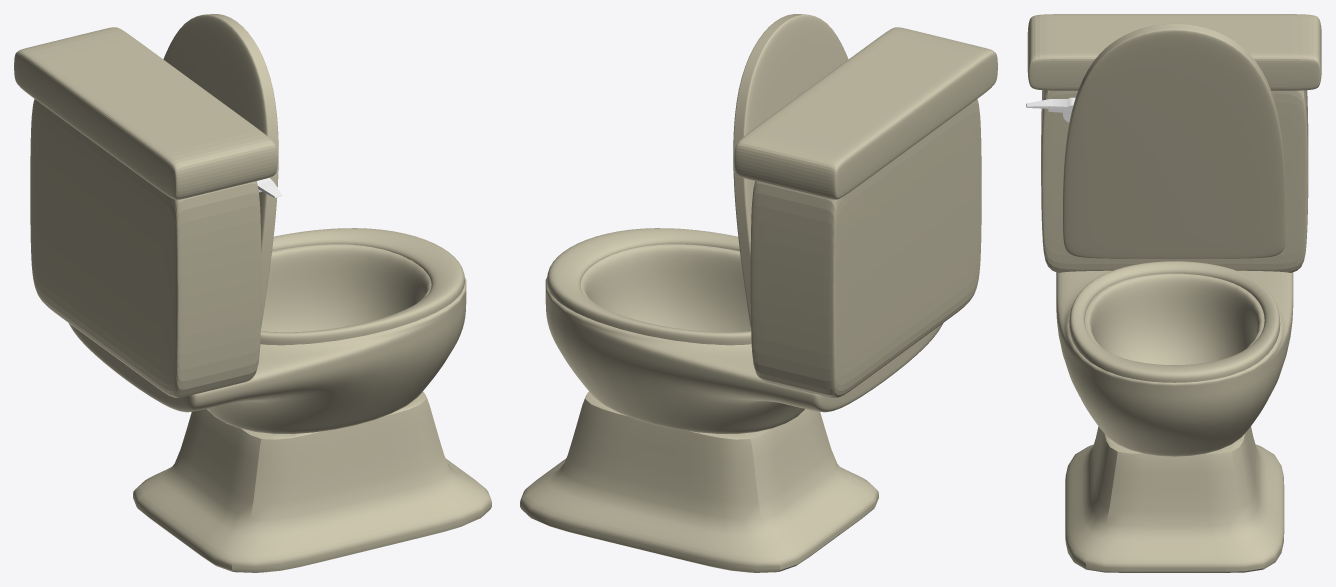
The model's file is Toilet (Open).fbx.
3 views of the same model, side by side, from view 1: azimuth 30°, elevation 25°; view 2: azimuth 150°, elevation 25°; view 3: azimuth 270°, elevation 25° (orthographic). The views are drawn at different scales.
Parts seen in each view (by area): view 1: Cylinder, Plane.002; view 2: Cylinder, Plane.002; view 3: Cylinder, Plane.002.
Boxes of the visible parts, box(x1,y1,x2,y2) form: Cylinder: box(14, 27, 491, 572); Plane.002: box(163, 14, 278, 327); Cylinder: box(520, 27, 997, 572); Plane.002: box(733, 14, 848, 327); Cylinder: box(1026, 14, 1321, 572); Plane.002: box(1063, 23, 1286, 258).
Bounding box in the file's own units: 3.38 × 4.57 × 2.7.
